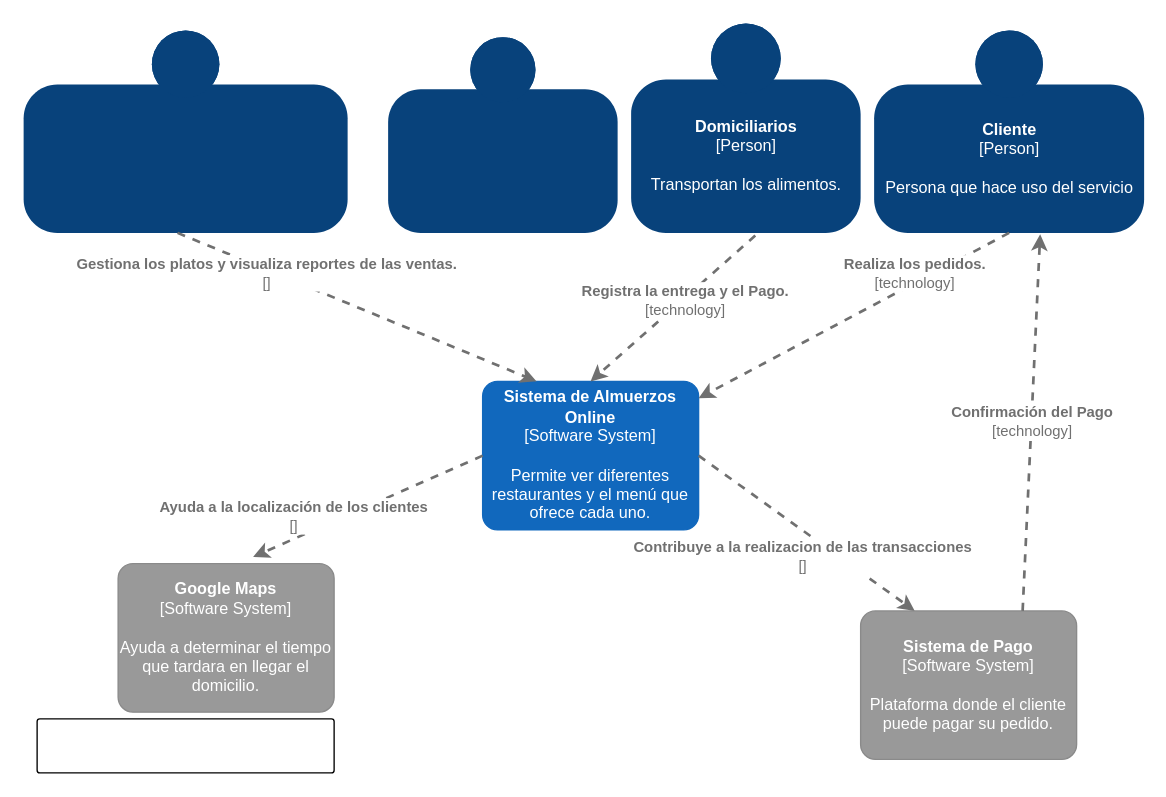
Some shapes in this 1166 by 797 pixel diagram are drawn without their labels. Each missing label, with the centre of its shape:
Administrador [Person] Persona que gestiona el restaurante online: the point at 185,131
Cocineros [Person] Encargados de preparar la comida.: the point at 502,134
Diagrama de Contexto [Sistema de Almuerzos Online]: the point at 185,745
